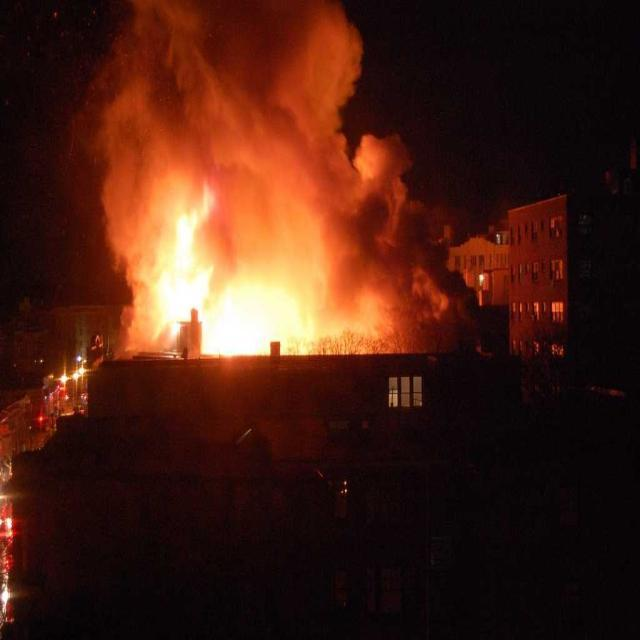Fire: (220, 287, 290, 349)
Smoke: (191, 22, 325, 132)
